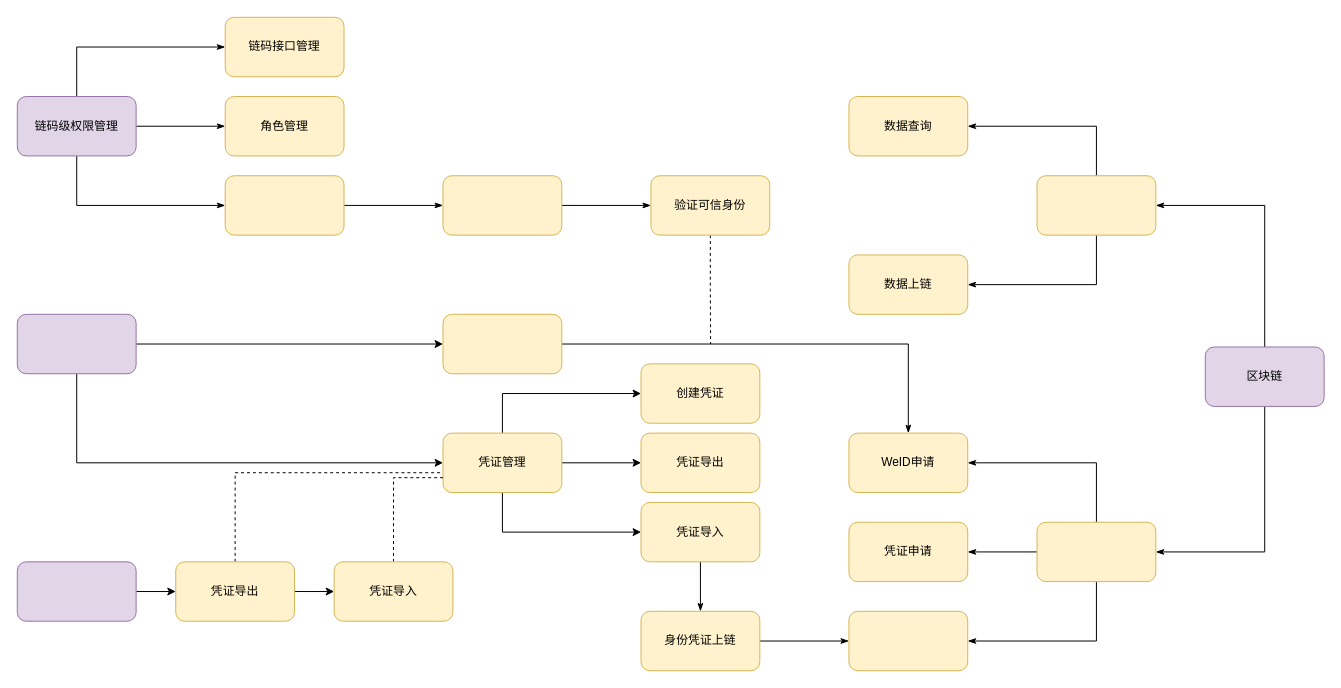
This 1341x688 diagram has some shape labels left out. The shapes that lost their labels are listed below. From the top down, each one's centre as x and y in pixels, then its label:
the point at 284,205: 用户管理
the point at 502,205: 添加用户
the point at 1096,205: 数据链
the point at 76,343: 可信身份管理
the point at 502,343: DID申请
the point at 1096,551: 身份链
the point at 76,591: 跨链身份同步
the point at 908,640: Evidence上链
